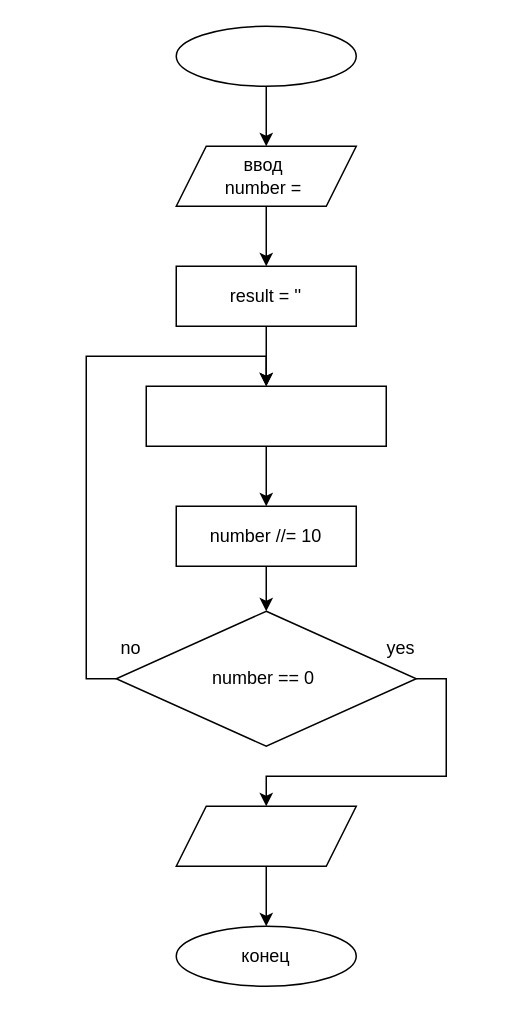
Image size: 531x1013. Some labels were removed from this diagram. The centre of each missing label's shape, as x and y in pixels:
"result += number%10" goes at pixel 265 415.
"вывод result" goes at pixel 265 835.
"начало" goes at pixel 265 55.
